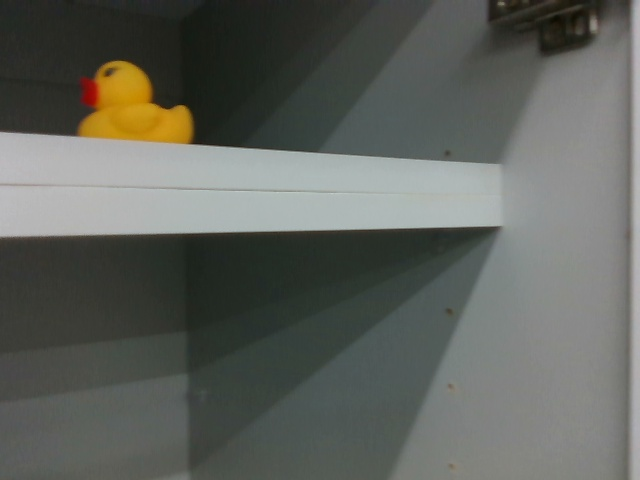duck: (70, 48, 198, 142)
